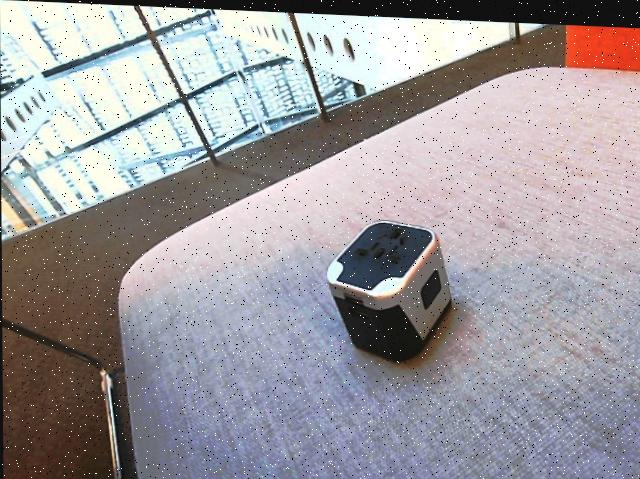adapter: (326, 213, 452, 360)
